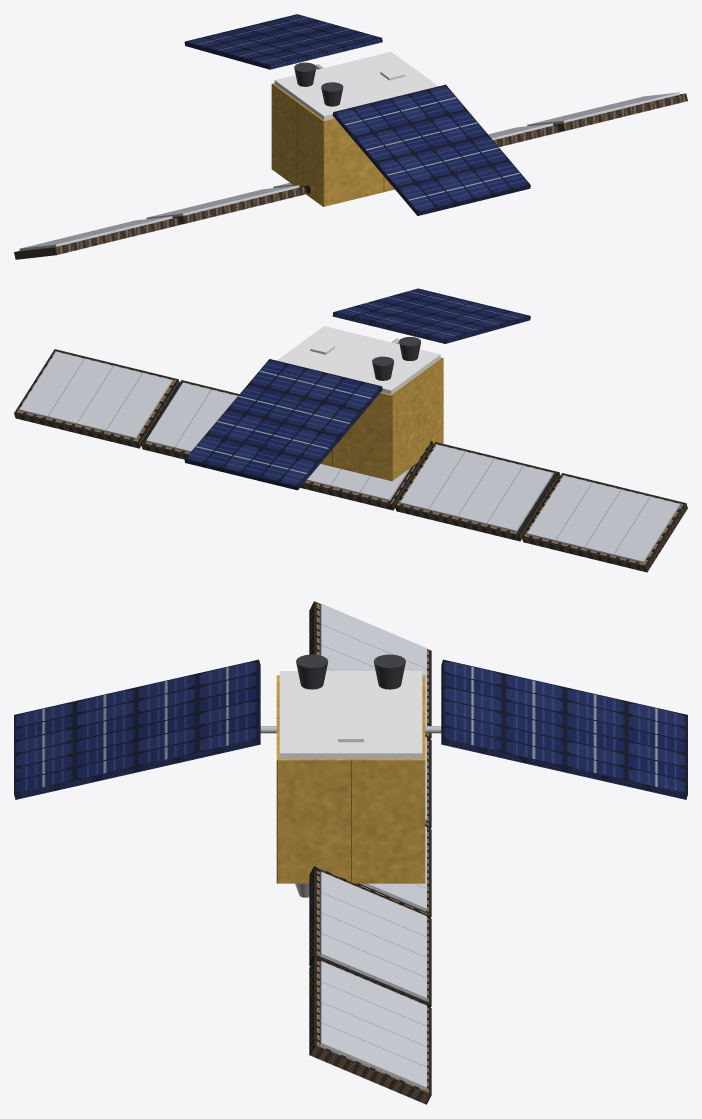
Rendered from iceye-x36.glb.
3 views of the same model, one above another, from view 1: azimuth 30°, elevation 25°; view 2: azimuth 150°, elevation 25°; view 3: azimuth 270°, elevation 25° (orthographic). The views are drawn at different scales.
Parts seen in each view (by area): view 1: solar-1, bus, solar--1, bus-top-radiator, sar-seg-0, sar-seg-1, sar-seg-4, sar-back-0, sar-back-1, sar-back-4, sar-seg-3, star-tracker-0 (+2 smaller); view 2: solar--1, sar-back-0, sar-back-4, sar-back-1, bus, solar-1, bus-top-radiator, sar-back-3, sar-seg-0, sar-seg-4, sar-seg-1, sar-back-2 (+4 smaller); view 3: solar-1, solar--1, bus, bus-top-radiator, sar-back-3, sar-back-4, sar-back-0, sar-seg-4, sar-seg-3, sar-back-2, sar-seg-0, sar-seg-2 (+2 smaller).
Part boxes in pixels (x1,y1,x2,y2): solar-1: (332,84,530,215); bus: (271,83,394,206); solar--1: (184,14,382,69); bus-top-radiator: (274,51,437,120); sar-seg-0: (14,217,180,259); sar-seg-1: (172,186,306,224); sar-seg-4: (553,93,687,131); sar-back-0: (19,216,172,250); sar-back-1: (146,185,299,218); sar-back-4: (527,92,680,125); sar-seg-3: (493,124,560,146); star-tracker-0: (294,62,316,86); solar--1: (184,359,382,490); sar-back-0: (527,475,680,562); sar-back-4: (19,351,172,438); sar-back-1: (400,444,553,531); bus: (320,357,443,481); solar-1: (332,288,530,343); bus-top-radiator: (277,326,440,394); sar-back-3: (146,382,237,452); sar-seg-0: (521,473,687,572); sar-seg-4: (14,349,179,448); sar-seg-1: (395,442,560,541); sar-back-2: (306,464,410,500); solar-1: (14,659,260,799); solar--1: (441,659,687,799); bus: (276,675,425,883); bus-top-radiator: (279,671,422,758); sar-back-3: (320,872,426,1000); sar-back-4: (320,961,426,1089); sar-back-0: (320,603,426,725); sar-seg-4: (309,958,431,1104); sar-seg-3: (309,869,431,1007); sar-back-2: (360,826,426,911); sar-seg-0: (309,601,431,739); sar-seg-2: (309,827,431,918).
Size of the model in its own units: 3.25 by 0.6604 by 2.08.
7 materials, 4 textured.
